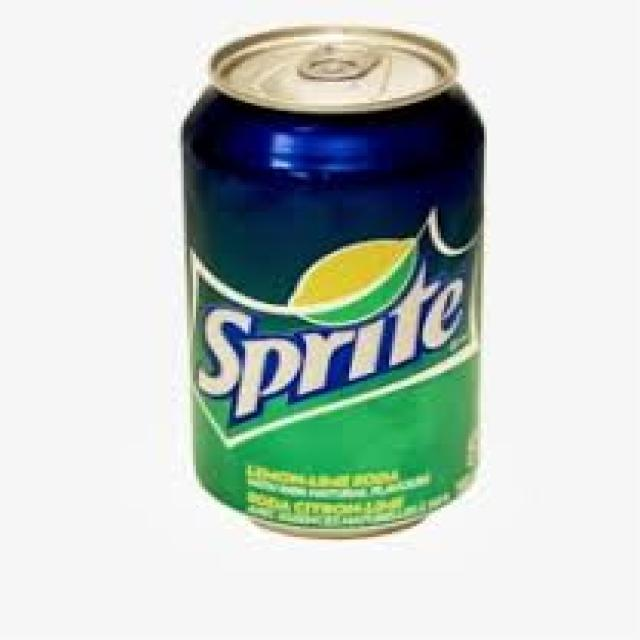aluminum_can: (184, 26, 487, 538)
